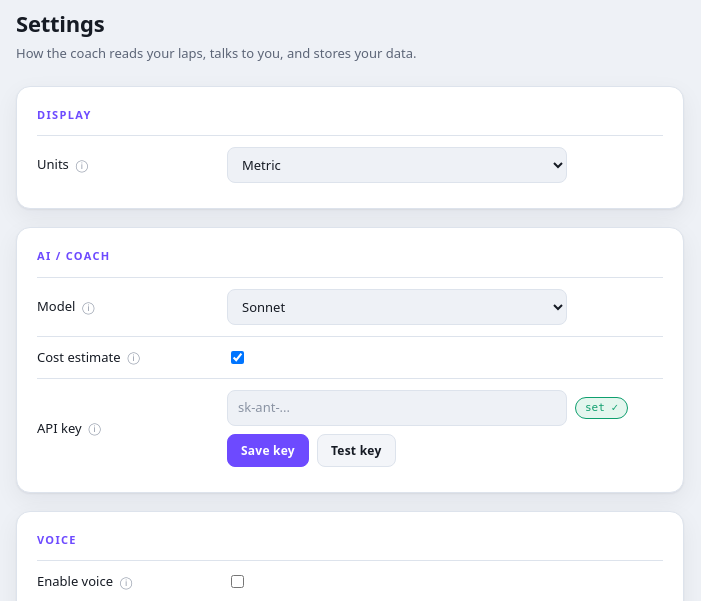
Test: SettingsScreen › clicking Test key shows the result
Click the button "Test key".
click(356, 450)  # box [317,434,396,466]
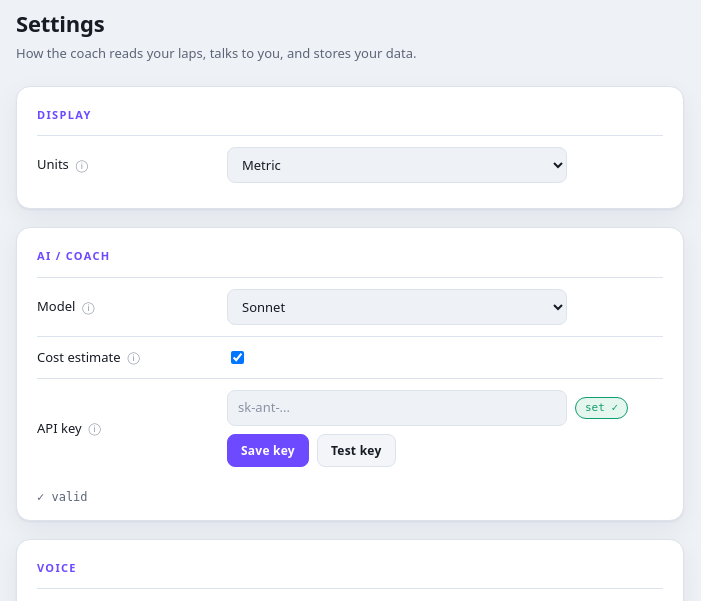
Now the text "✓ valid" is shown, box [37,490,88,504]
